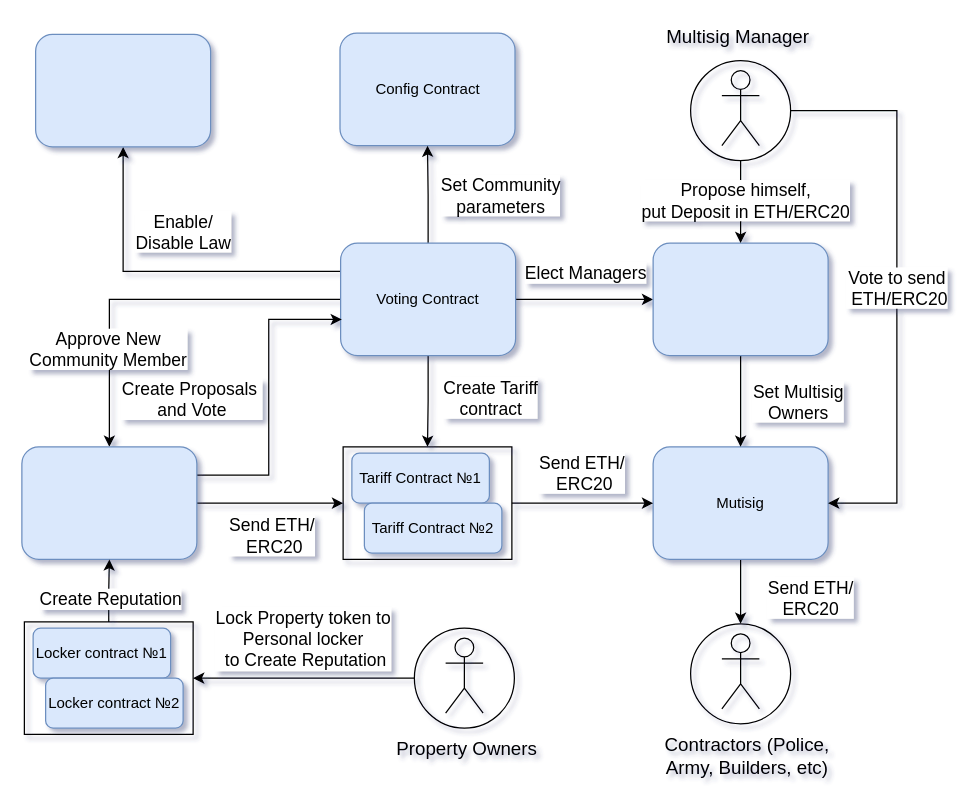
Some shapes in this 976 by 808 pixel diagram are drawn without their labels. The shapes that lost their labels are listed below. From the top down, each one's centre as x and y in pixels, then its label:
At pixel 122 90: "Laws and Rules Contract".
At pixel 740 299: "Multisig Managers Election Contract".
At pixel 109 502: "Reputation with Liquid Democracy Contract".
